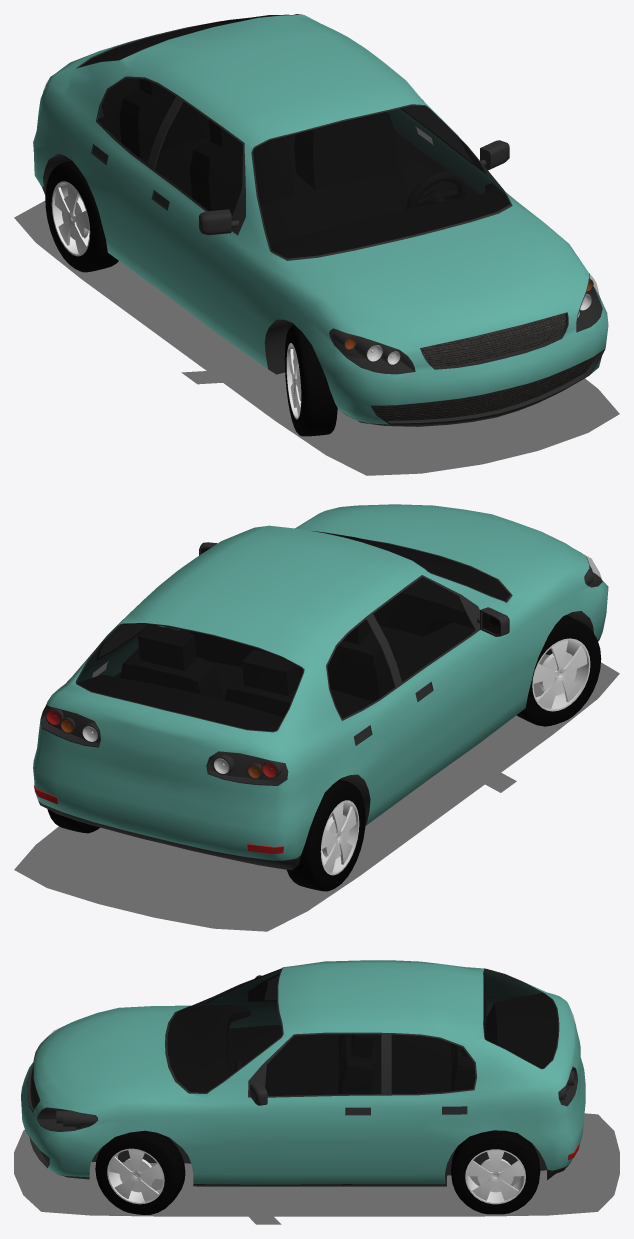
3 renders of one model, top to bottom at view 1: azimuth 30°, elevation 25°; view 2: azimuth 150°, elevation 25°; view 3: azimuth 270°, elevation 25°, orthographic. The views are drawn at different scales.
Visible parts, largest first — view 1: CarBody2, Shadow.001, WheelRR.001, WheelFR.001, SteeringWheel; view 2: CarBody2, Shadow.001, WheelFR.001, WheelRR.001; view 3: CarBody2, Shadow.001, WheelRL.001, WheelFL.001.
Boxes of the visible parts, <box> form: CarBody2: <box>33,14,608,426</box>; Shadow.001: <box>14,201,619,475</box>; WheelRR.001: <box>45,160,118,272</box>; WheelFR.001: <box>284,325,337,436</box>; SteeringWheel: <box>406,171,466,208</box>; CarBody2: <box>33,504,608,870</box>; Shadow.001: <box>14,654,619,931</box>; WheelFR.001: <box>516,615,601,726</box>; WheelRR.001: <box>287,779,365,891</box>; CarBody2: <box>21,960,585,1186</box>; Shadow.001: <box>14,1113,619,1224</box>; WheelRL.001: <box>451,1130,540,1214</box>; WheelFL.001: <box>95,1130,185,1214</box>.
Size of the model in its own units: 4.77 by 3.21 by 9.92.
Materials: 12 (1 with a texture image).
